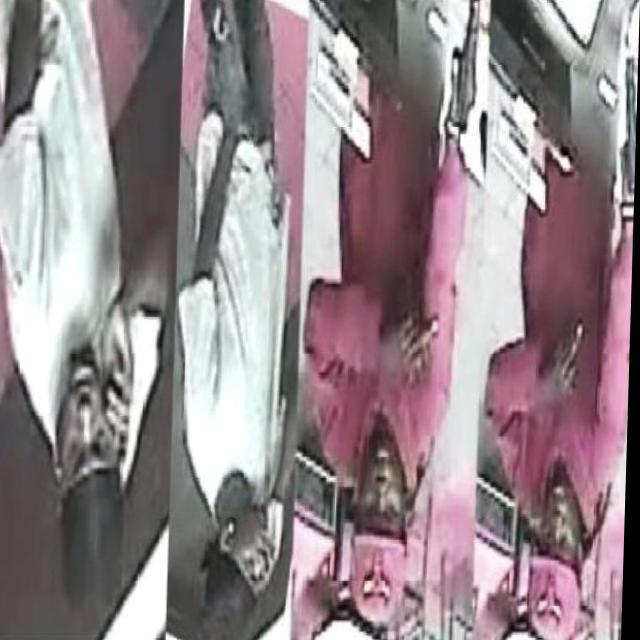gun: (443, 0, 498, 156), (608, 56, 638, 228)
